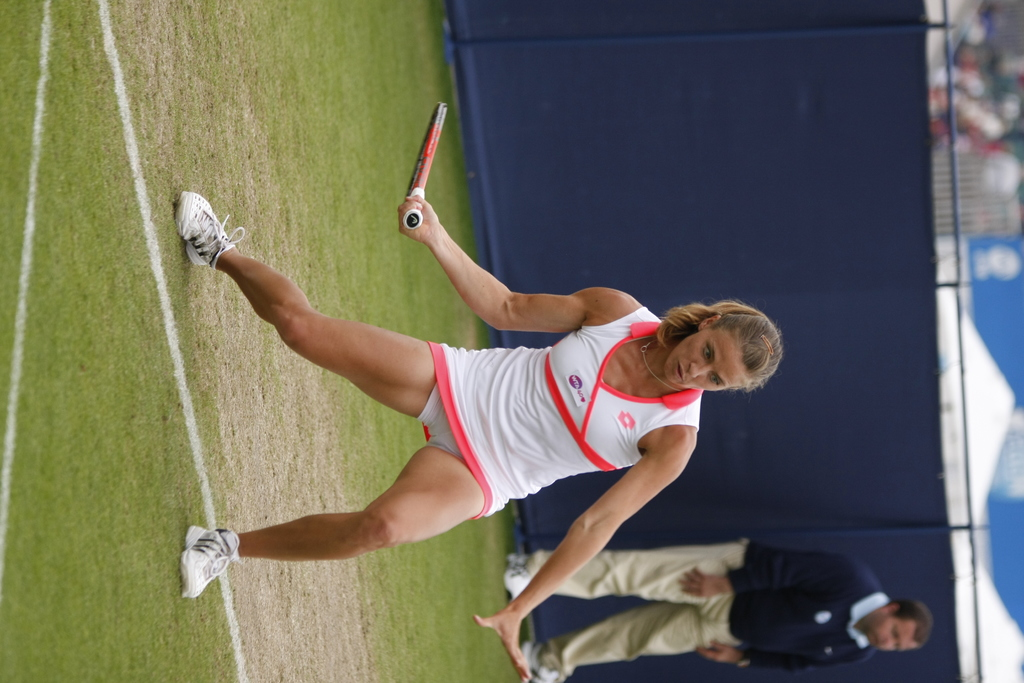Person: (175, 194, 788, 683), (504, 538, 934, 683)
